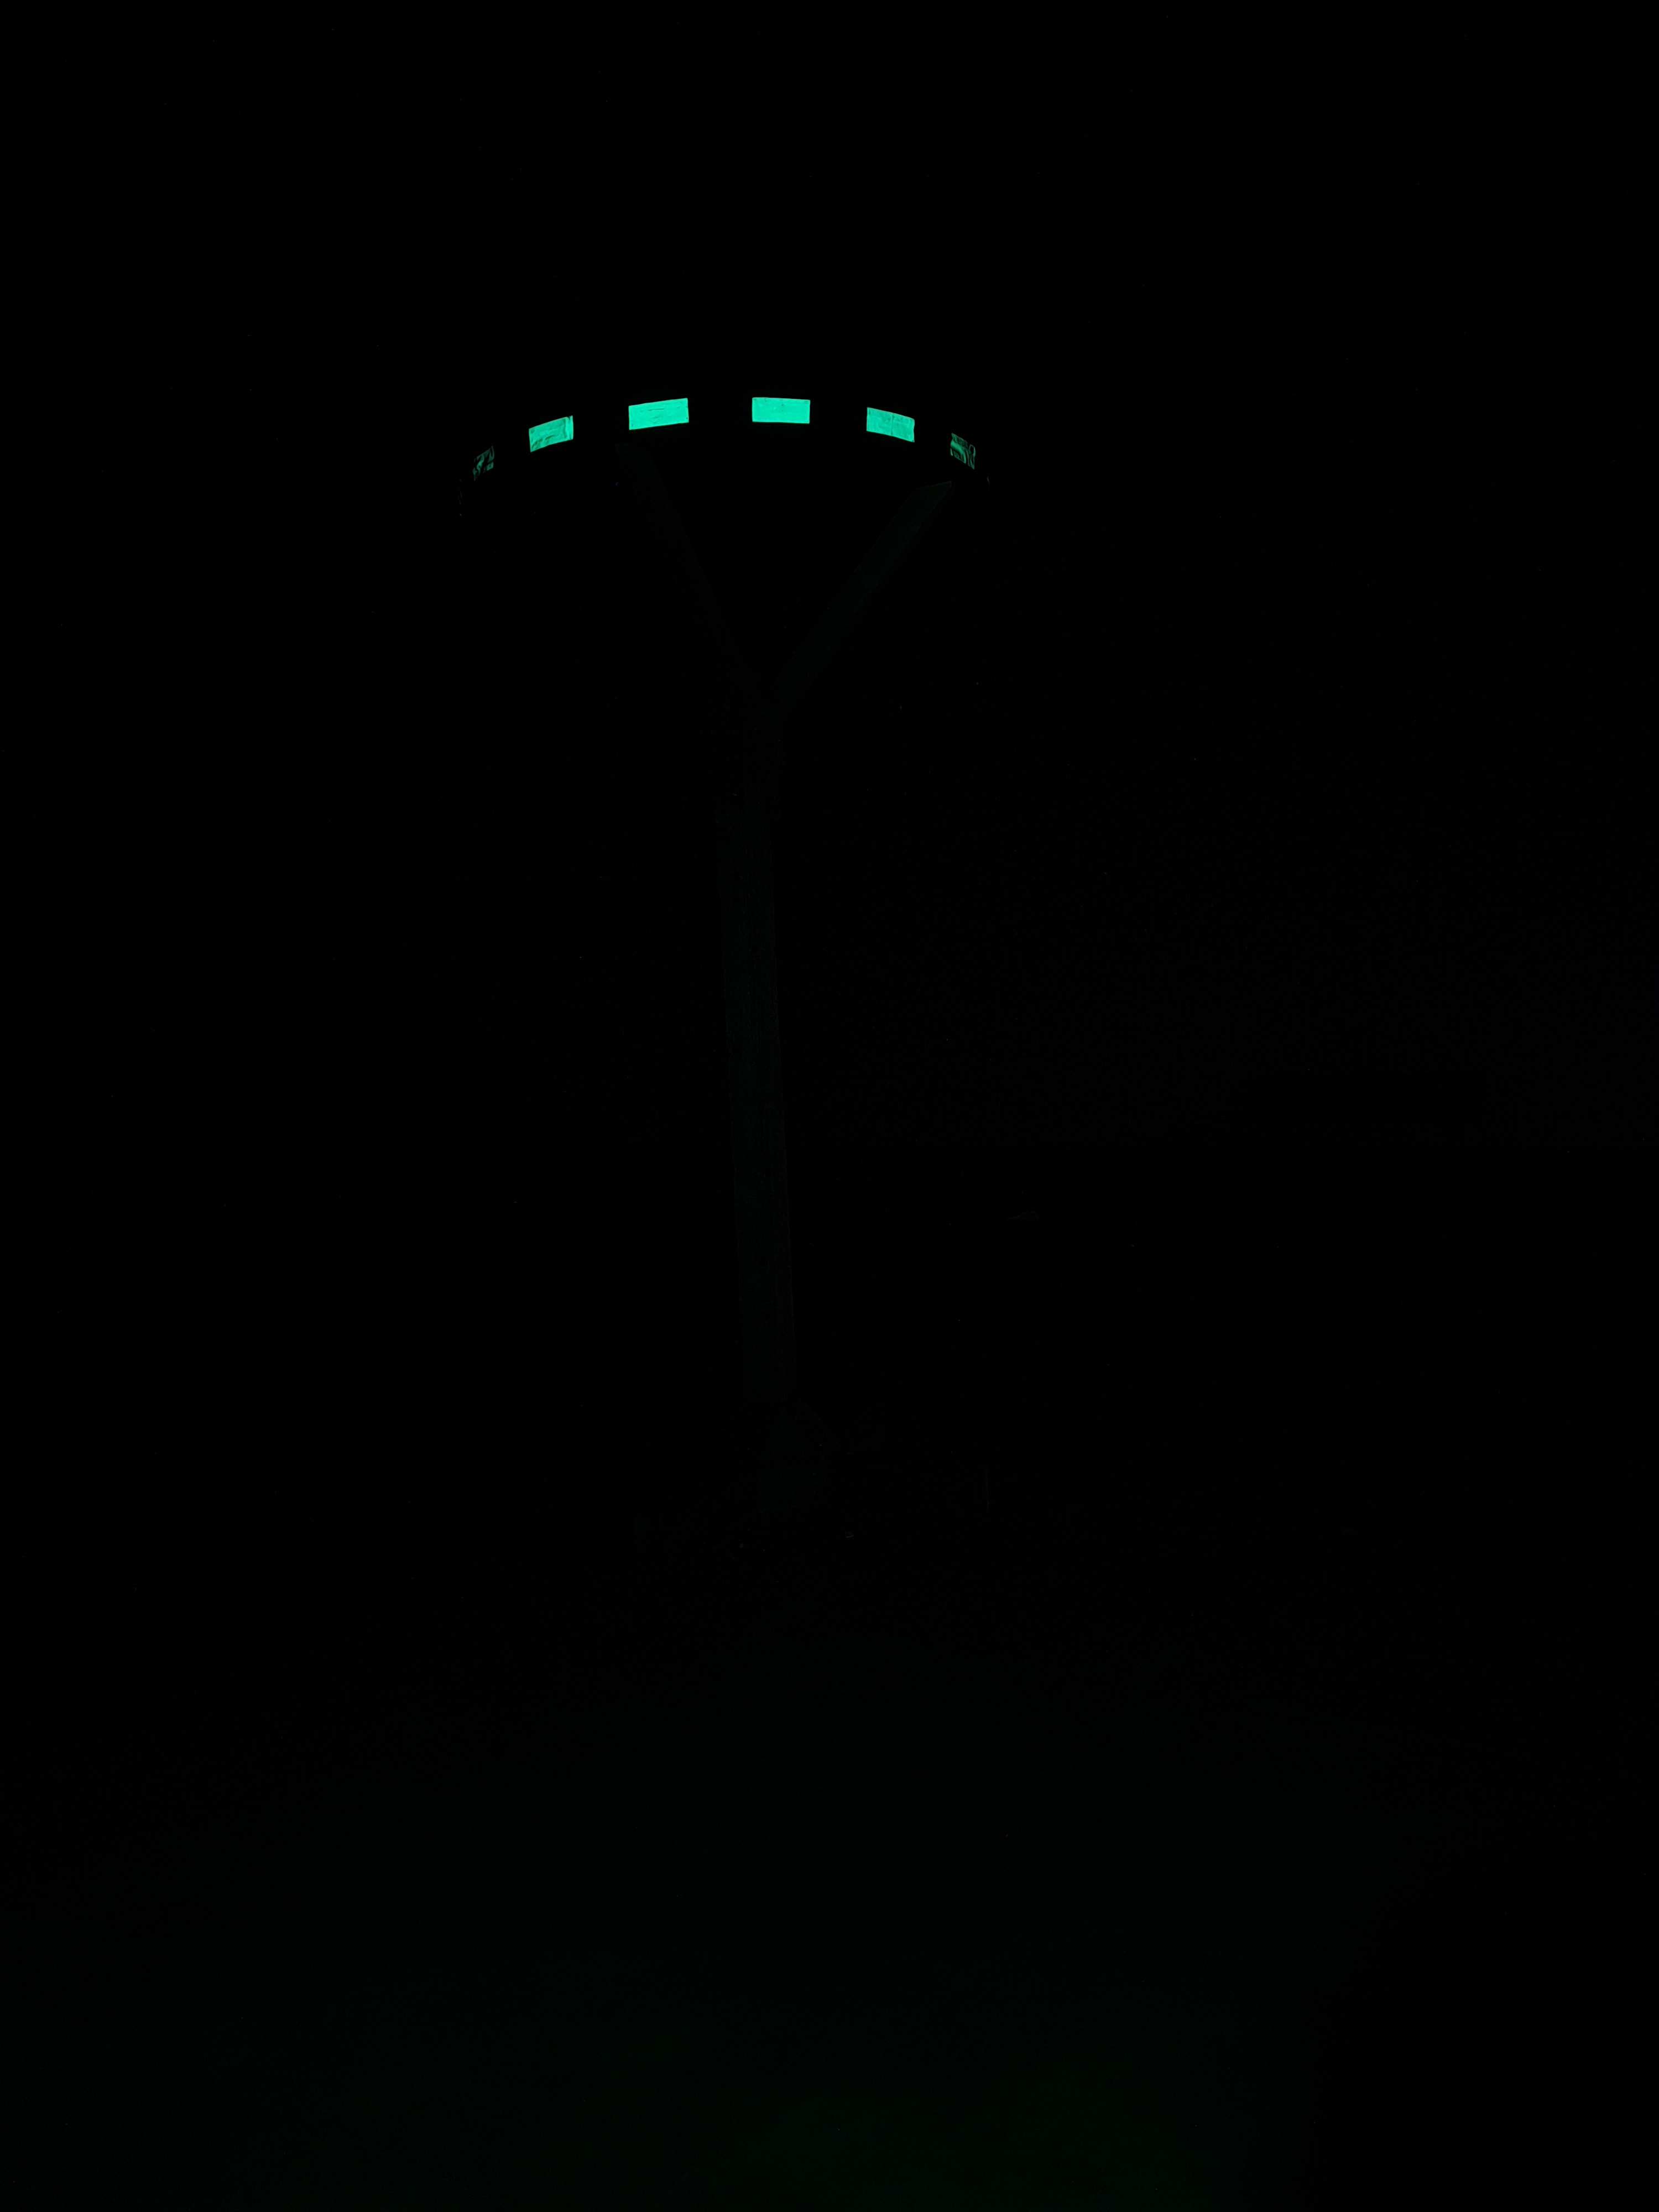hoop: (436, 392, 993, 486)
